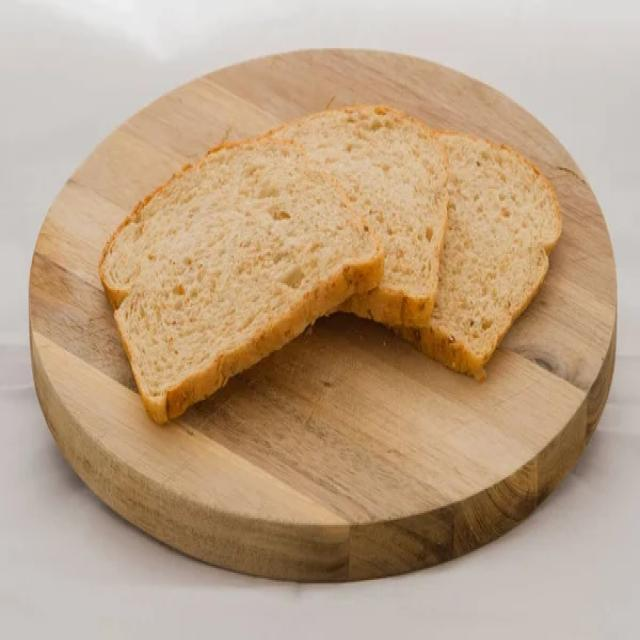Bread: (100, 139, 384, 423), (400, 133, 561, 379), (274, 107, 448, 327)
